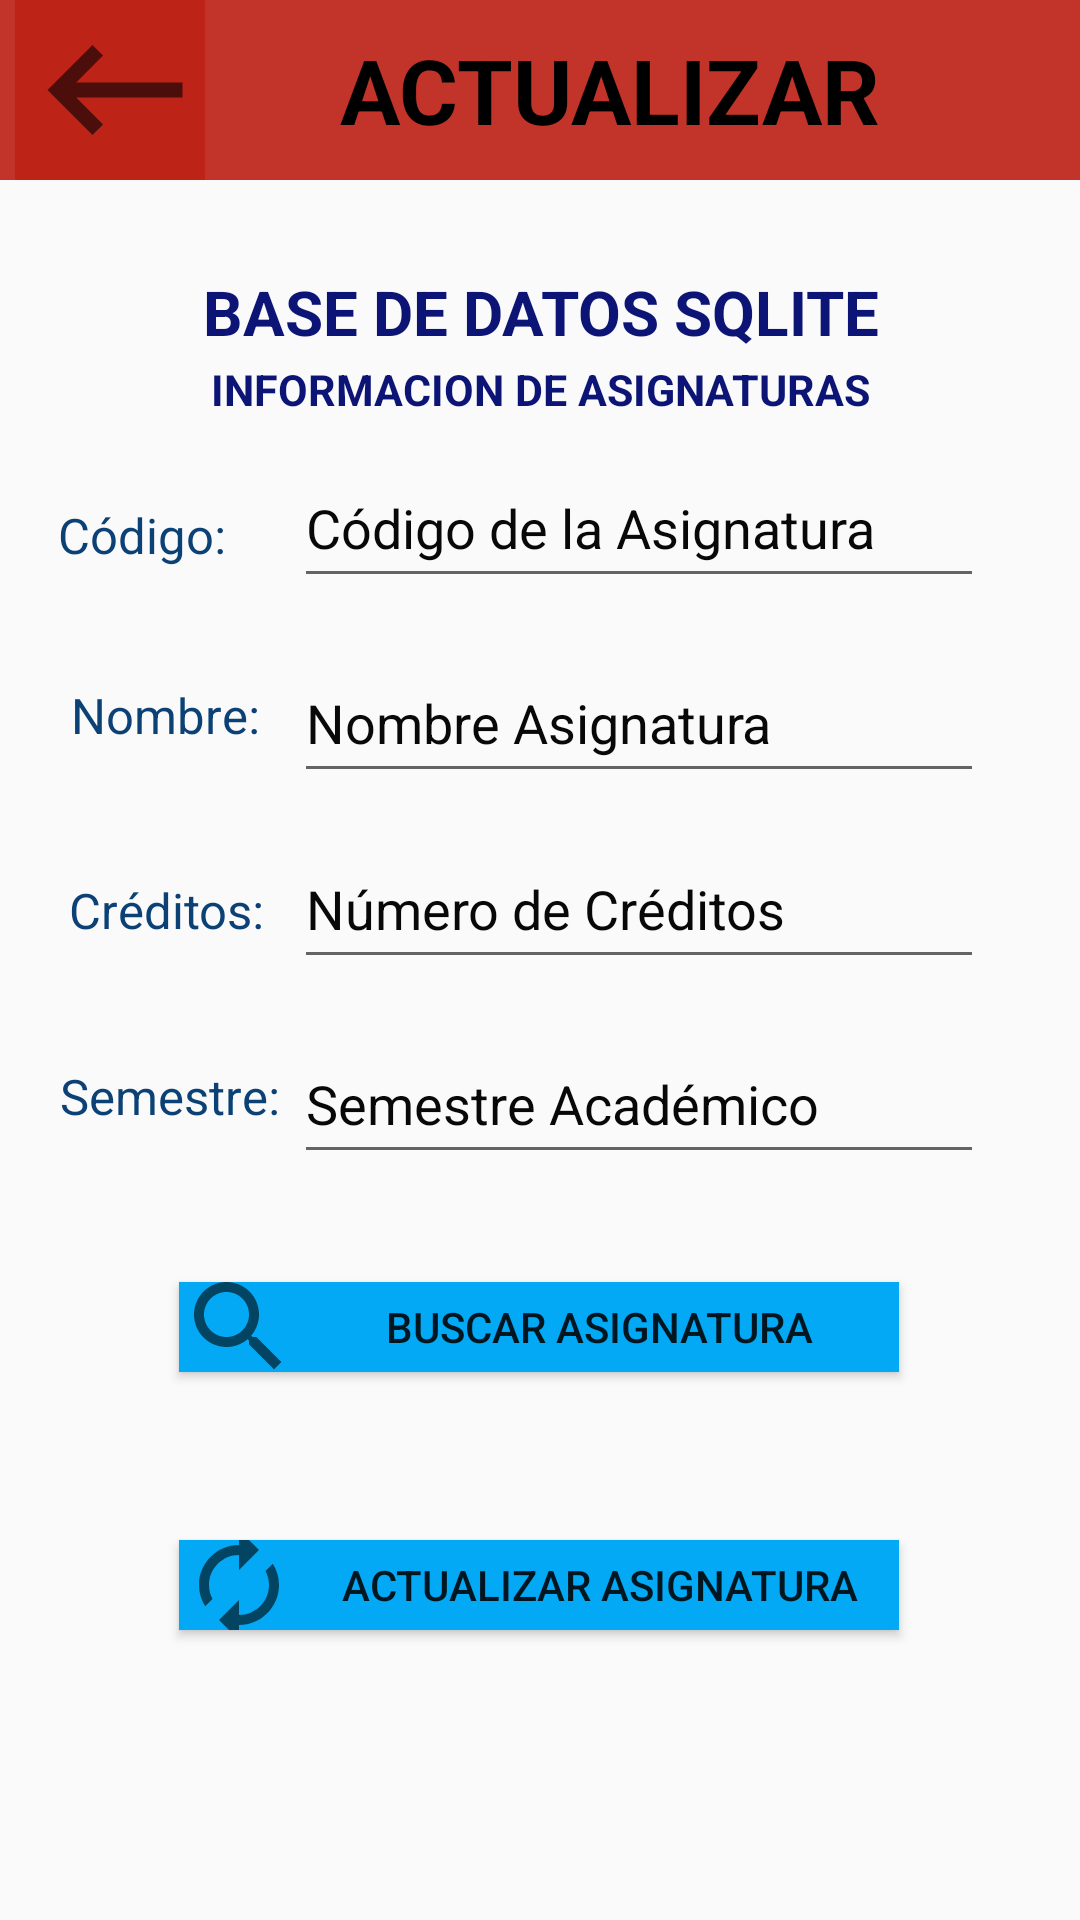

Screen size 1080w x 1920h. Icon name, then its box in pixels as (x1=x1, y1=y1, x2=x2, y2=y2):
volver: (x1=15, y1=0, x2=205, y2=180)
